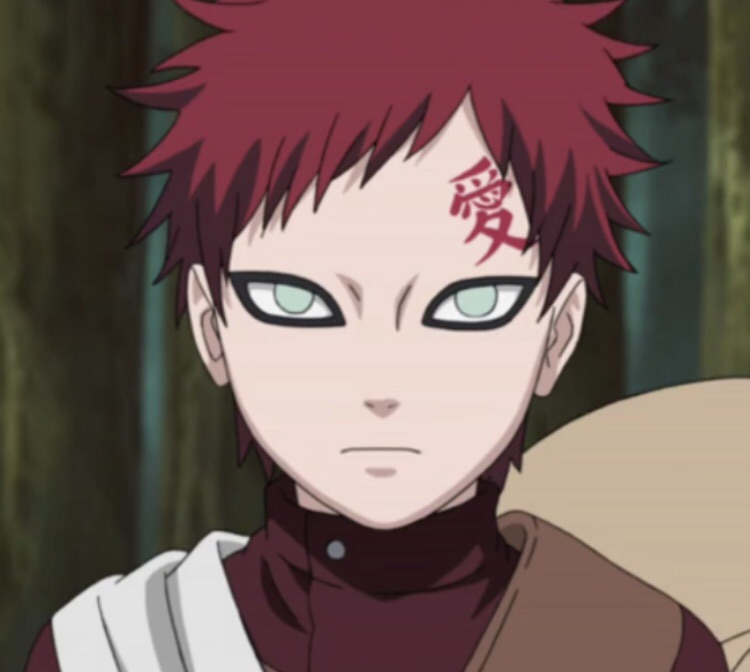gaara: (180, 83, 591, 538)
